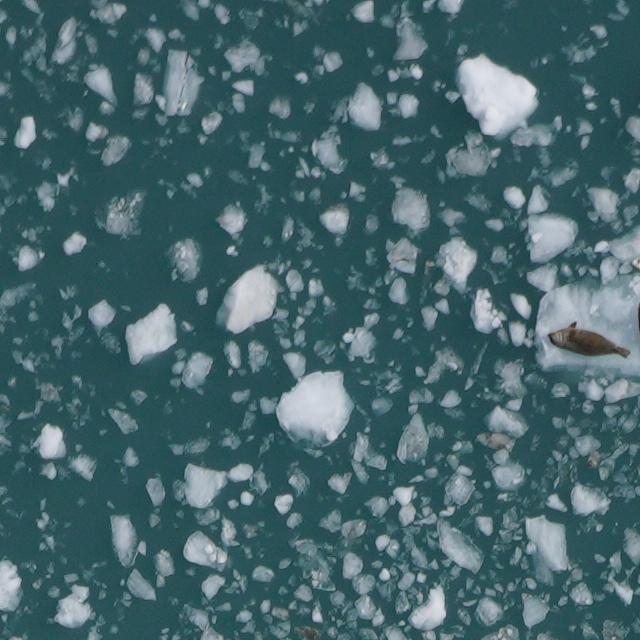seal: (546, 320, 631, 357)
